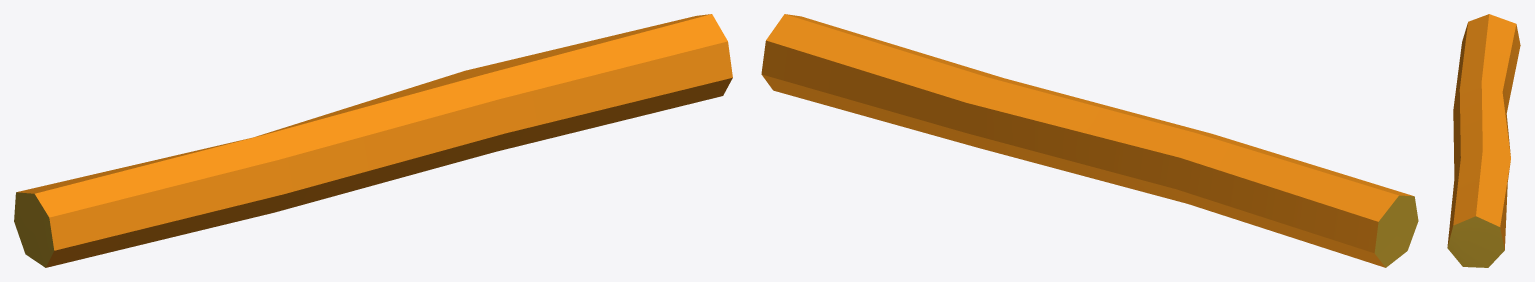
The model's file is tree_log_A.fbx.
The picture shows the model from 3 angles, left to right: view 1: azimuth 30°, elevation 25°; view 2: azimuth 150°, elevation 25°; view 3: azimuth 270°, elevation 25°; orthographic projection. The views are drawn at different scales.
Visible parts, largest first — view 1: tree_log_A; view 2: tree_log_A; view 3: tree_log_A.
Part boxes in pixels (x1,y1,x2,y2): tree_log_A: (14, 14, 732, 267); tree_log_A: (761, 14, 1418, 267); tree_log_A: (1447, 14, 1520, 267).
Bounding box in the file's own units: 21.98 × 2.93 × 3.09.
